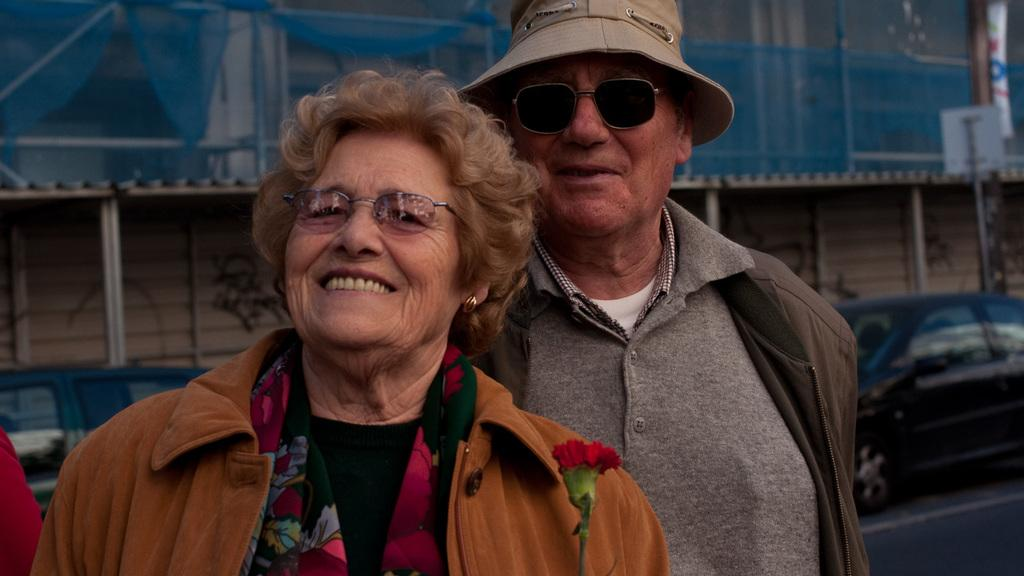Hat: (452, 0, 738, 152)
